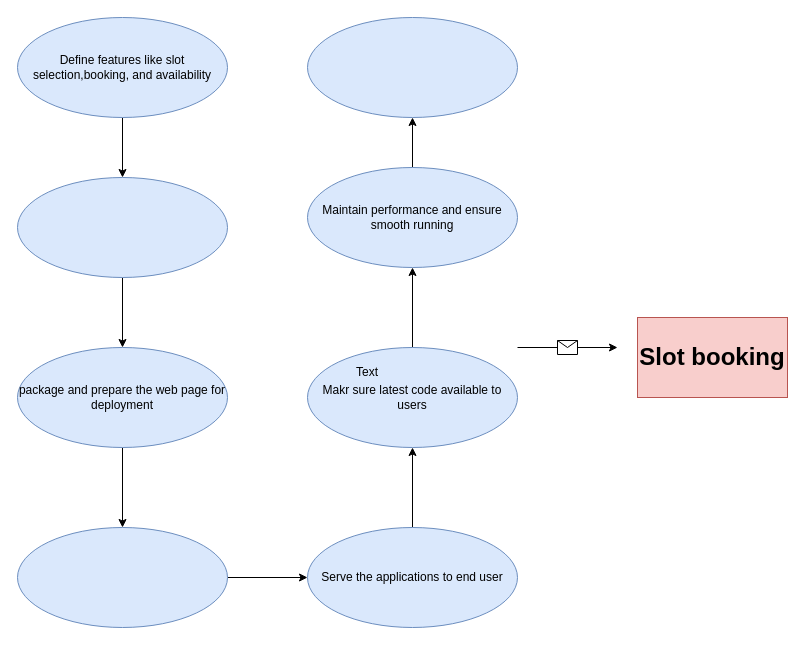
This 805x645 diagram has some shape labels left out. The shapes that lost their labels are listed below. From the top down, each one's box as (x1, y1, x2, y2) in pixels, then its label:
(306, 16, 518, 118): Get user feedback and fix bugs quikly
(16, 176, 228, 278): Write thw html,css, code for boking system
(16, 526, 228, 628): Ensure the applicatons works correctly
